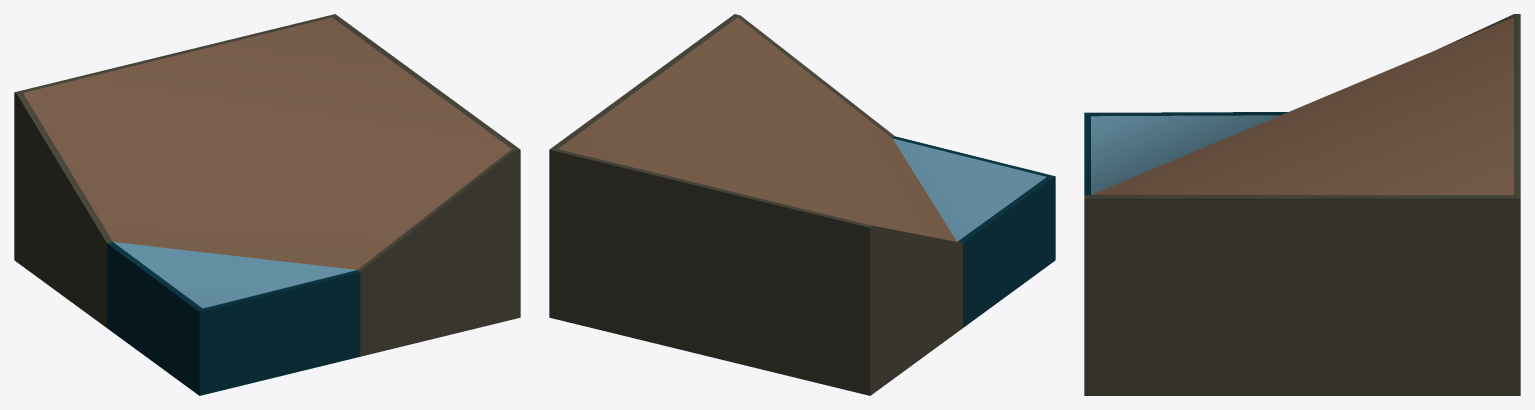
File: Agua_19.fbx
3 views of the same model, side by side, from view 1: azimuth 30°, elevation 25°; view 2: azimuth 150°, elevation 25°; view 3: azimuth 270°, elevation 25° (orthographic). The views are drawn at different scales.
Parts seen in each view (by area): view 1: pCube4; view 2: pCube4; view 3: pCube4.
Boxes of the visible parts, x1,y1,x2,y2 form: pCube4: (14, 14, 520, 395); pCube4: (549, 14, 1055, 395); pCube4: (1084, 14, 1520, 395).
Size of the model in its own units: 200 by 100 by 200.
